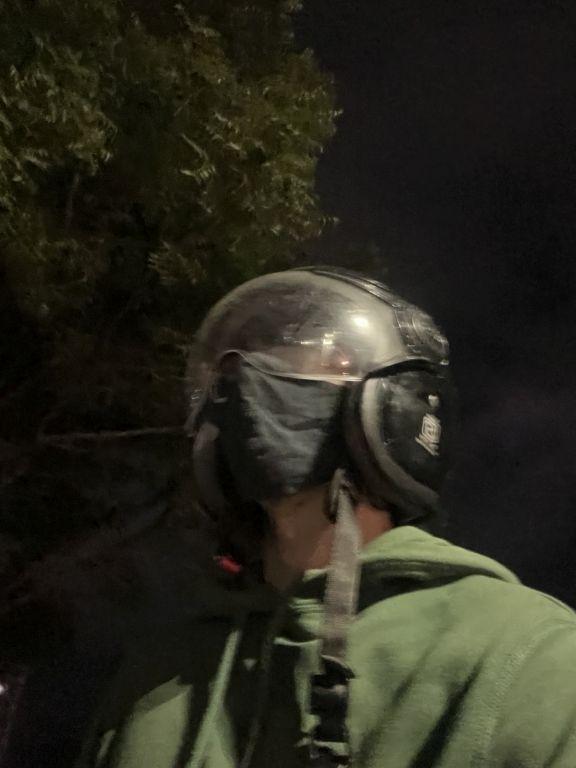helmet: (147, 247, 472, 547)
